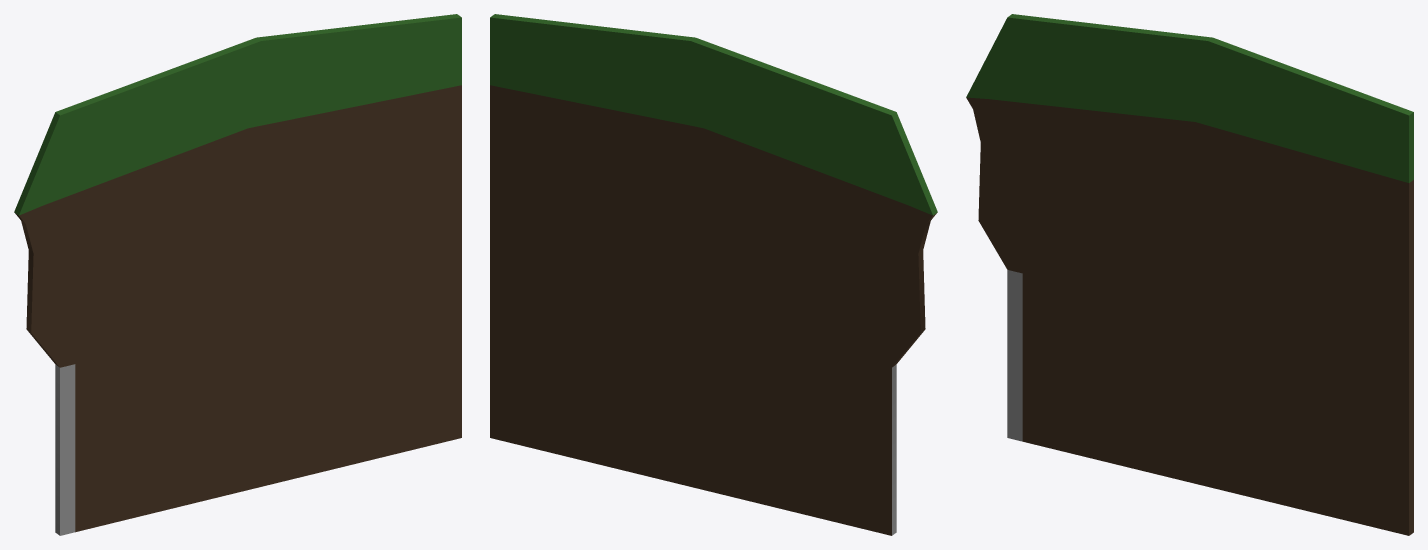
Rendered from ProtoTunnel1.fbx.
3 renders of one model, left to right at view 1: azimuth 30°, elevation 25°; view 2: azimuth 150°, elevation 25°; view 3: azimuth 330°, elevation 25°, orthographic.
Visible parts, largest first — view 1: Tunnel; view 2: Tunnel; view 3: Tunnel.
Part boxes in pixels (<box>): Tunnel: <box>14,14,461,535</box>; Tunnel: <box>490,14,937,535</box>; Tunnel: <box>966,14,1413,535</box>.
Bounding box in the file's own units: 128 × 123 × 2.4.
